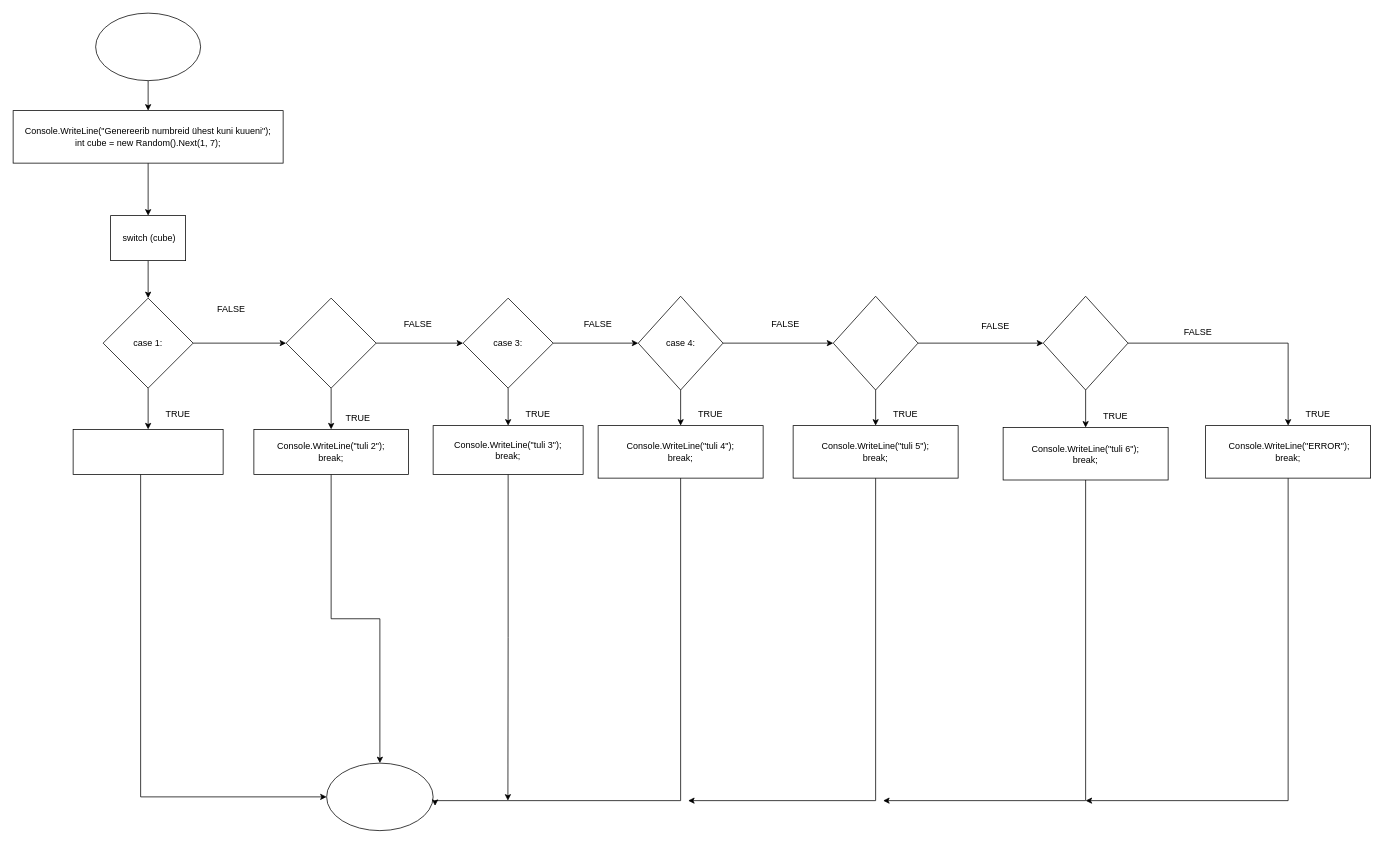
Some shapes in this 1384 by 844 pixel diagram are drawn without their labels. The shapes that lost their labels are listed below. From the top down, each one's centre as x and y in pixels, then its label:
(148,46): START
(330,342): case 2:
(875,343): case 5:
(1085,343): case 6:
(147,451): Console.WriteLine("tuli 1"); break;
(379,796): END
